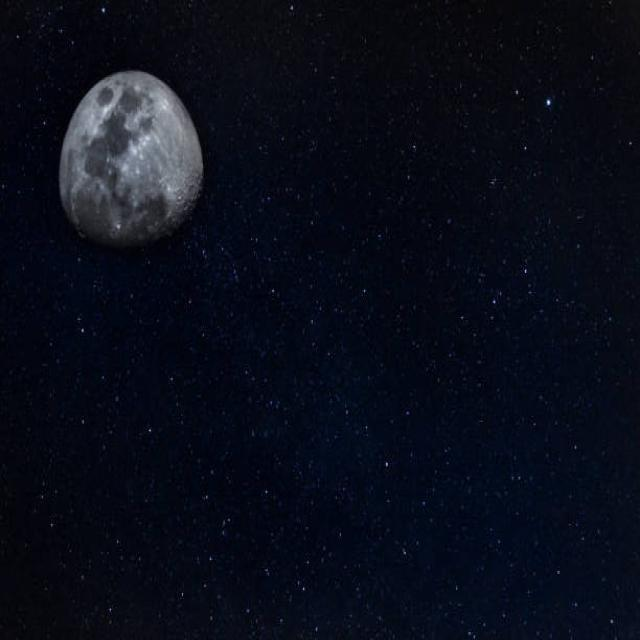moon: (48, 66, 222, 290)
